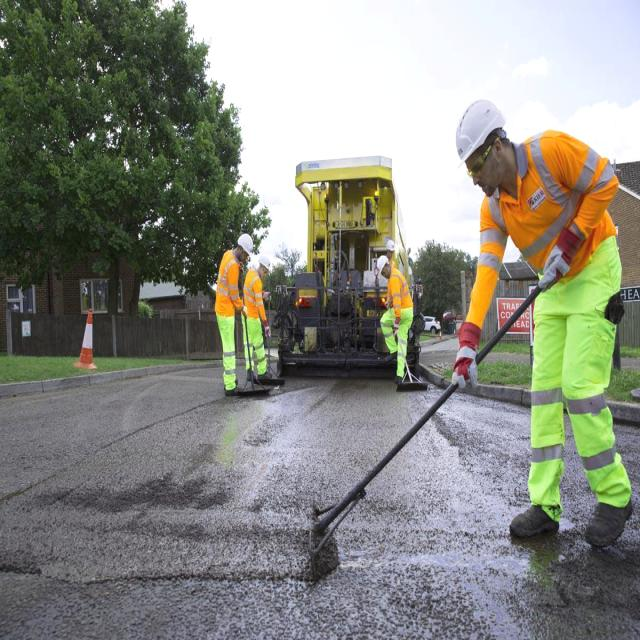face_nomask: (466, 150, 501, 202)
hand_glove: (538, 232, 586, 287), (452, 319, 484, 395)
head_helmet: (454, 98, 508, 166), (237, 232, 252, 254), (377, 254, 388, 274), (258, 254, 268, 269), (386, 239, 394, 252)
person: (455, 104, 634, 550), (214, 232, 250, 398), (376, 255, 416, 383), (244, 254, 273, 380)
shoes: (574, 474, 640, 557), (501, 490, 567, 546), (222, 379, 246, 397), (382, 341, 399, 364)
vest: (477, 128, 622, 285), (213, 248, 242, 318), (242, 268, 264, 322), (387, 269, 414, 311)
